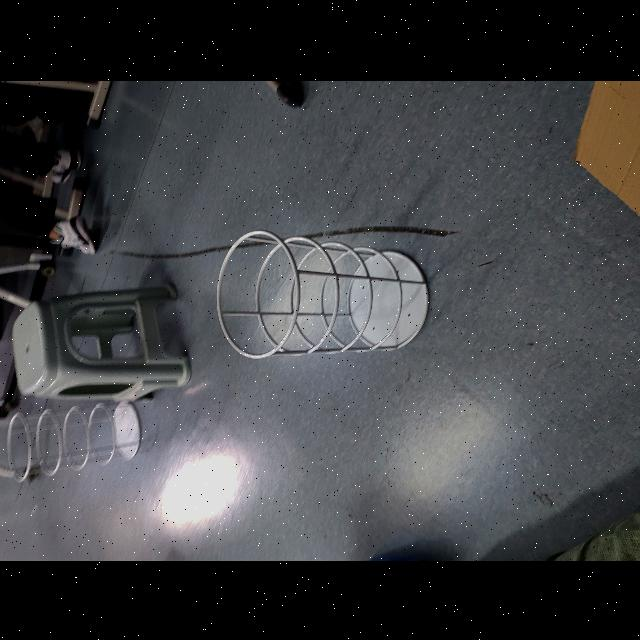S: (213, 228, 432, 358)
